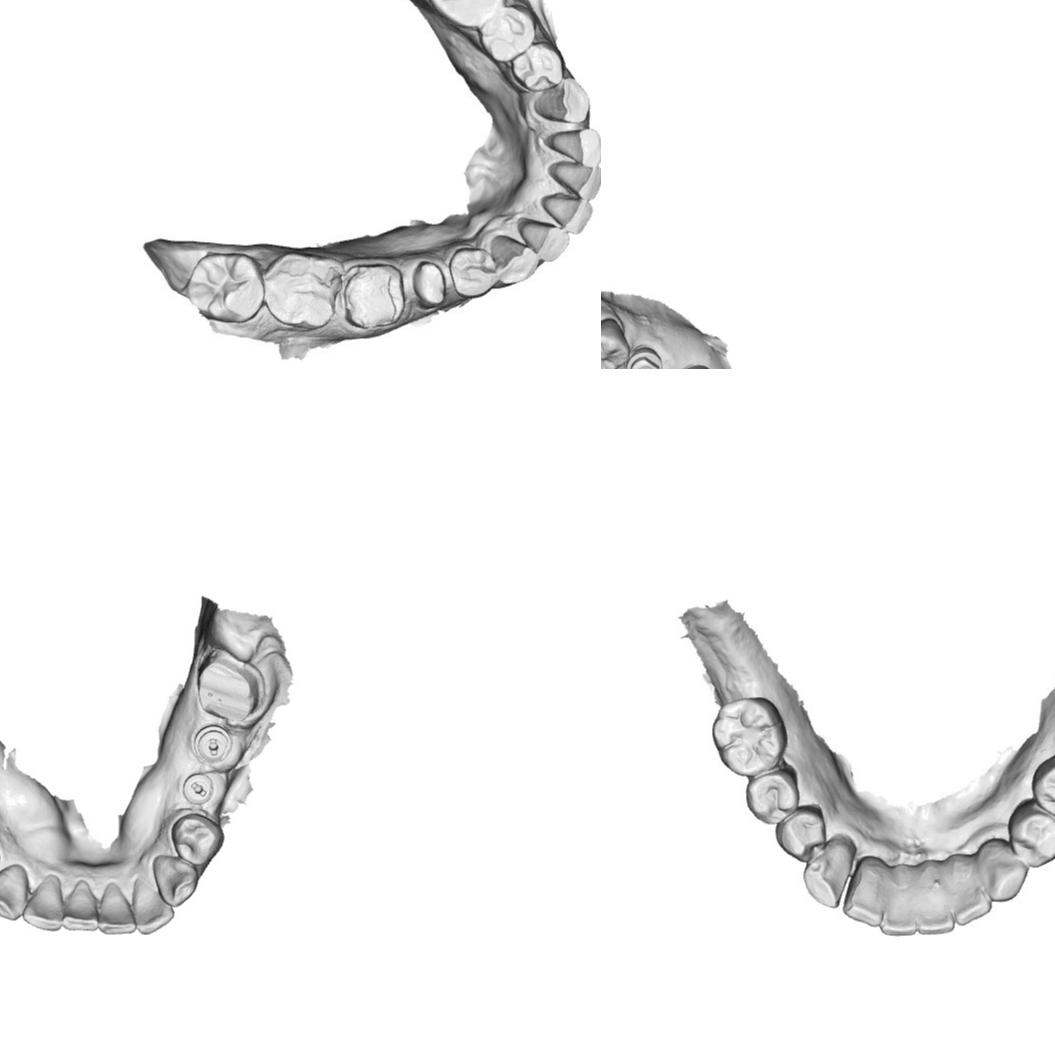canine: (802, 833, 853, 910), (978, 839, 1027, 903), (148, 852, 200, 908), (536, 74, 594, 124), (492, 230, 536, 289), (0, 863, 29, 924)
crown: (195, 651, 266, 725), (410, 258, 450, 310)
implant: (626, 344, 663, 369)
implant_minus: (194, 726, 233, 763), (181, 772, 218, 808)
incisor: (950, 857, 994, 927), (842, 858, 885, 929), (914, 867, 958, 933), (128, 877, 175, 936), (22, 872, 68, 932), (61, 878, 101, 935), (97, 879, 136, 937), (523, 215, 569, 264), (880, 871, 914, 935), (550, 161, 601, 203), (550, 125, 601, 165), (542, 193, 592, 233)
molar: (711, 696, 787, 778), (265, 253, 346, 329), (186, 250, 260, 322), (343, 259, 410, 334), (432, 0, 505, 25)
premolar: (743, 768, 800, 825), (169, 811, 226, 867), (1009, 805, 1055, 869), (772, 807, 825, 862), (452, 248, 494, 303), (513, 40, 560, 87), (485, 8, 530, 57), (1031, 759, 1055, 822), (601, 318, 630, 369)
